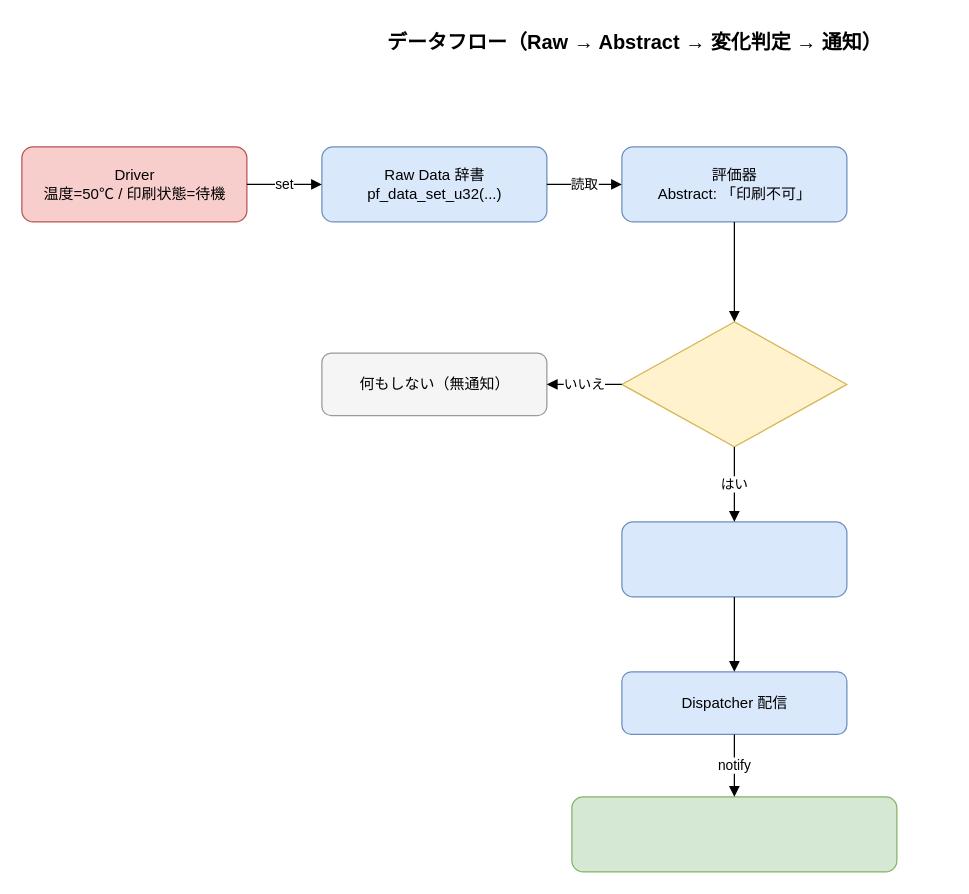
Some shapes in this 969 by 894 pixel diagram are drawn without their labels. The shapes that lost their labels are listed below. From the top down, each one's centre as x and y in pixels, then its label:
[734,384]: 前回値と比較 変化した？
[734,559]: pf_event_t 生成 (印刷可 → 印刷不可)
[734,834]: 購読者 UI / Log / 印刷制御 / 通信 / 保守
